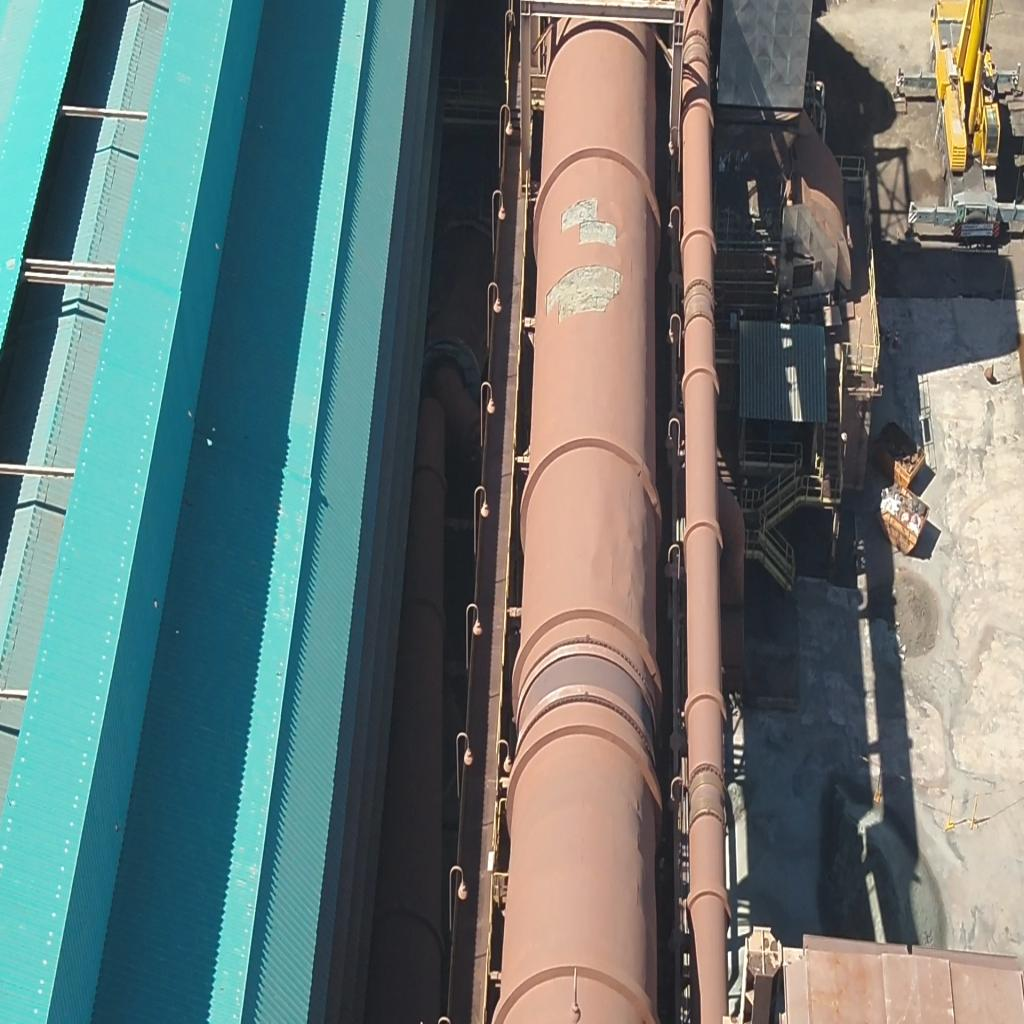Failures: (542, 264, 631, 324), (558, 194, 619, 253)
